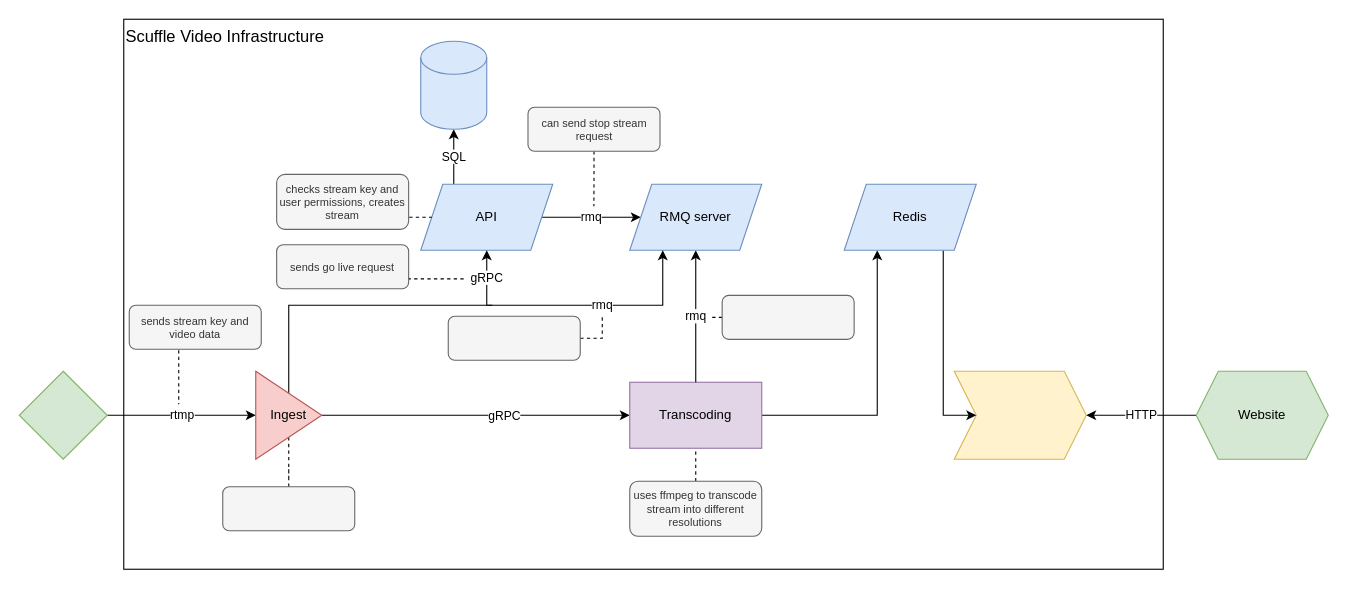
Some shapes in this 1348 by 589 pixel diagram are drawn without their labels. Each missing label, with the box of its shape:
- requests a transcoder - picks up stop stream requests: (447, 315, 580, 360)
Database: (420, 40, 487, 129)
Edge: (953, 370, 1086, 459)
Streamer: (18, 370, 107, 459)
transcoder picks up request: (721, 294, 854, 339)
transmuxes stream into mp4: (222, 486, 355, 531)
